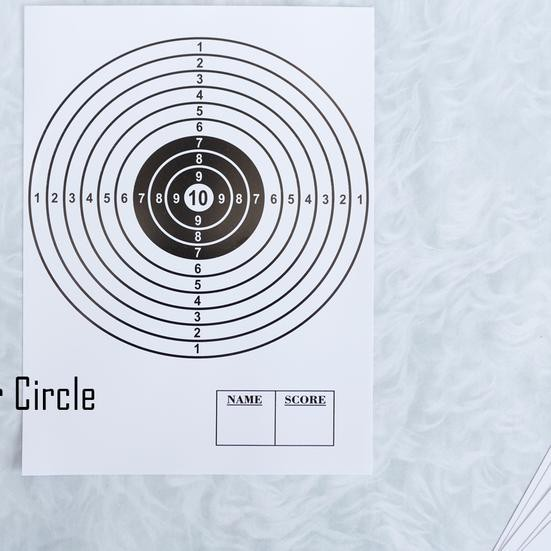target: (27, 31, 376, 370)
